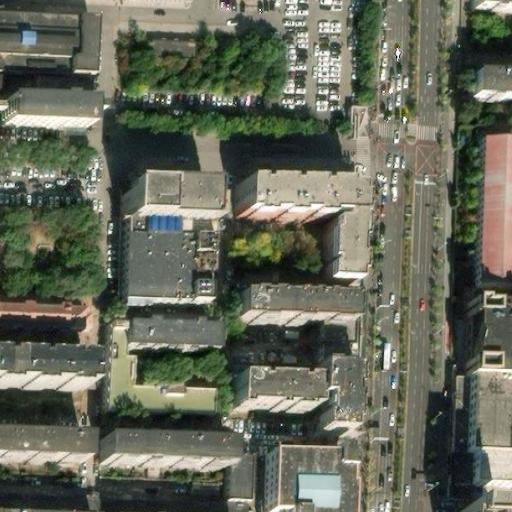building: (113, 317, 222, 435), (249, 183, 363, 288), (128, 214, 216, 299), (0, 12, 93, 77), (449, 292, 512, 370), (262, 456, 347, 512), (481, 136, 512, 283), (109, 438, 226, 476), (133, 182, 227, 220), (242, 295, 351, 327), (136, 318, 236, 352), (240, 375, 321, 415), (447, 369, 489, 442), (0, 359, 84, 395), (0, 428, 85, 463), (446, 441, 512, 482), (2, 101, 86, 131), (318, 364, 351, 436), (226, 449, 253, 512), (142, 34, 196, 58), (474, 72, 512, 102), (472, 0, 512, 13), (447, 499, 487, 512), (128, 0, 193, 7)
